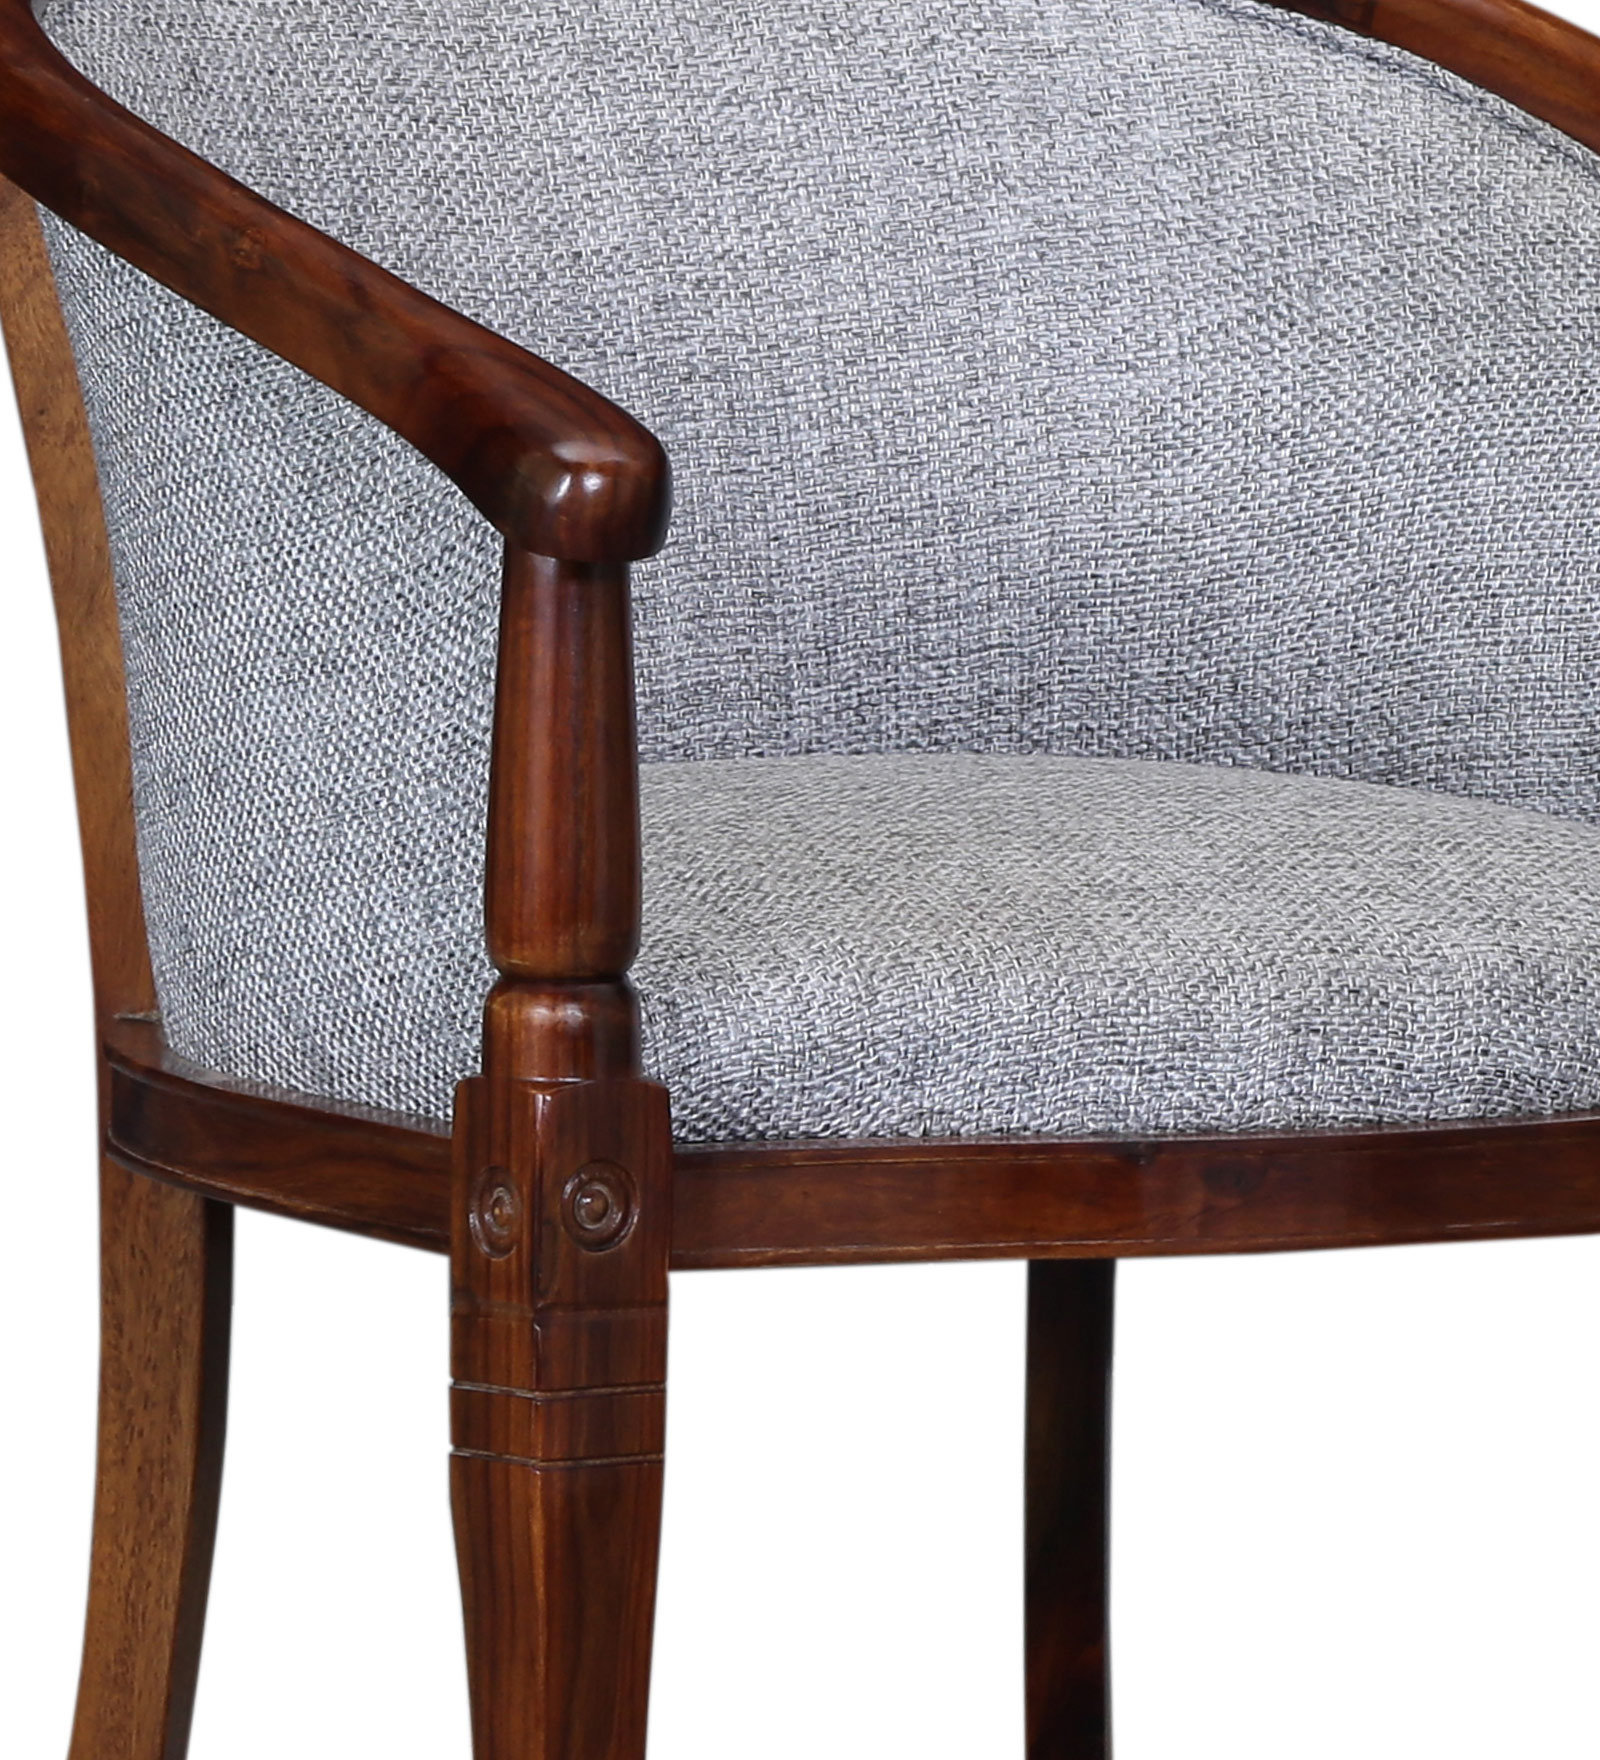Stalley Arm Chair in Grey Color with Honey Oak Finish by Amberville: (43, 40, 1600, 1760)
